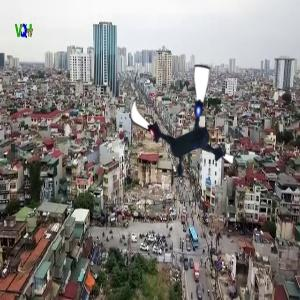drone: (123, 64, 246, 187)
